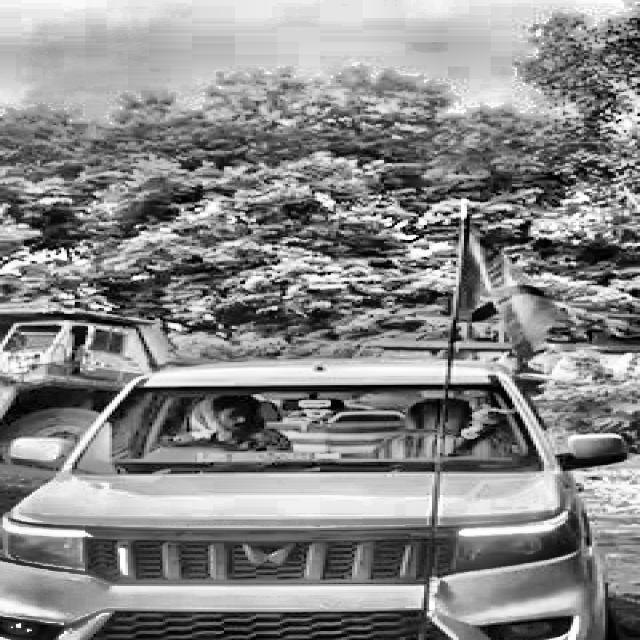light_vehicle: (0, 353, 603, 640)
